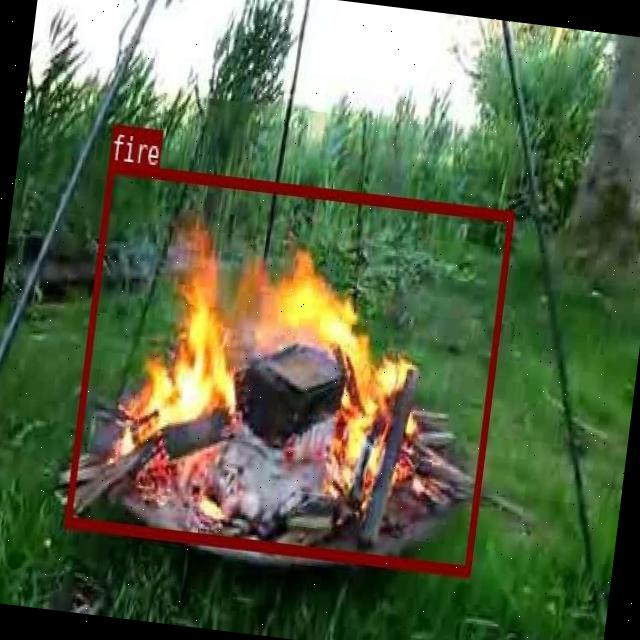fire: (63, 161, 513, 575)
